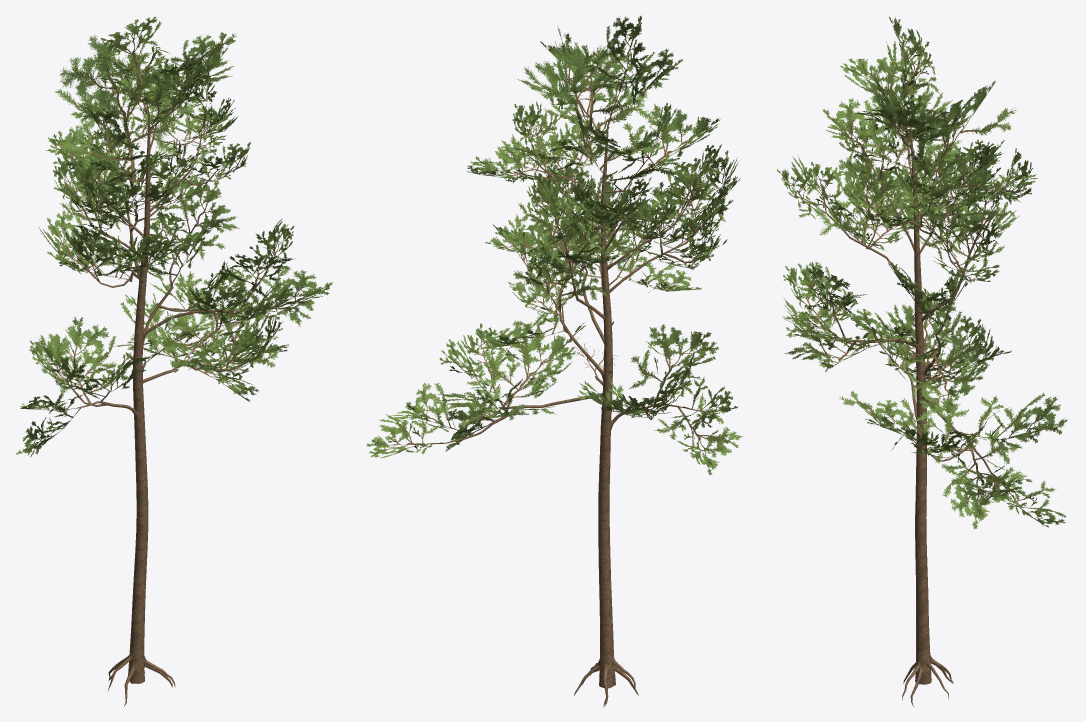
3 views of the same model, side by side, from view 1: azimuth 30°, elevation 25°; view 2: azimuth 150°, elevation 25°; view 3: azimuth 270°, elevation 25° (orthographic). The views are drawn at different scales.
Parts seen in each view (by area): view 1: Pine_medium_1_LOD0_Bark_Mat_0; view 2: Pine_medium_1_LOD0_Bark_Mat_0; view 3: Pine_medium_1_LOD0_Bark_Mat_0.
Boxes of the visible parts, x1,y1,x2,y2 form: Pine_medium_1_LOD0_Bark_Mat_0: (16, 17, 332, 706); Pine_medium_1_LOD0_Bark_Mat_0: (366, 16, 742, 707); Pine_medium_1_LOD0_Bark_Mat_0: (777, 17, 1067, 706).
Bounding box in the file's own units: 6.63 × 13.92 × 5.57.
